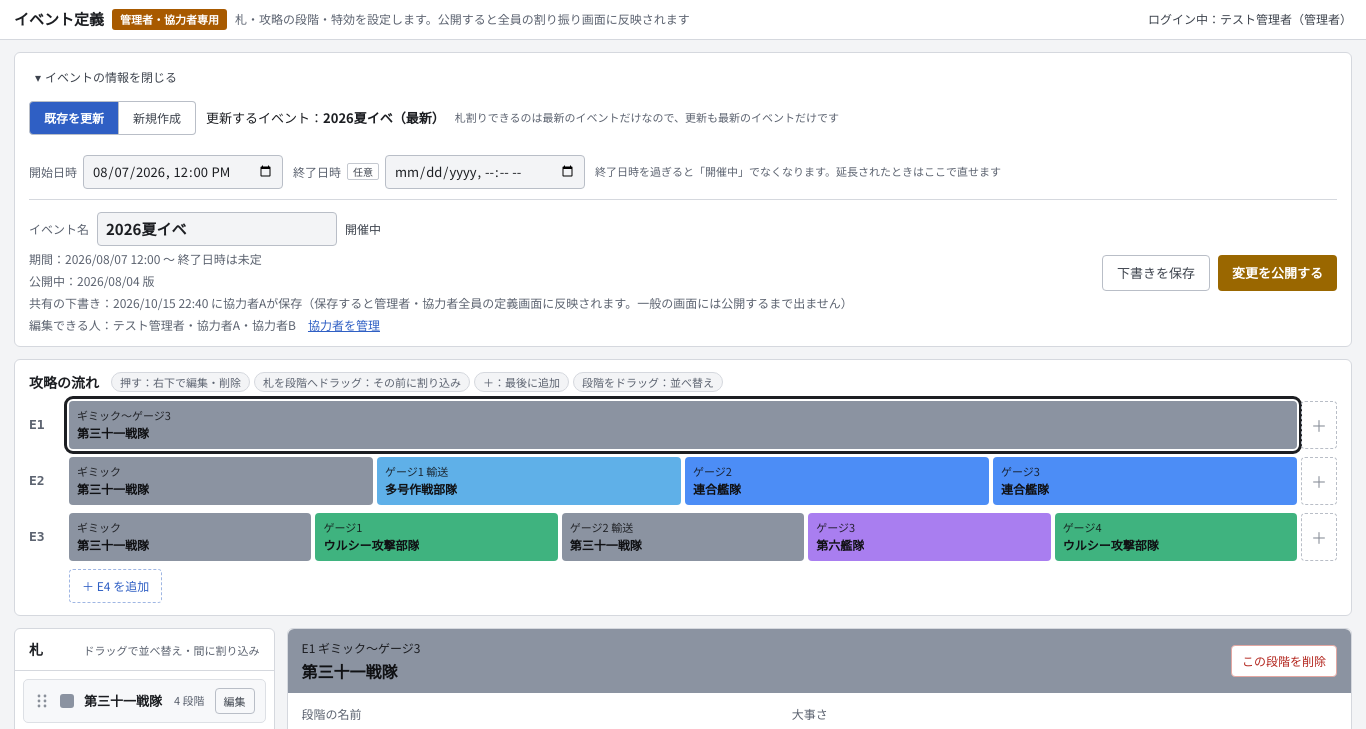
イベント定義の画面（PlanEditor）：公開の前の確認（UI／UX の指摘 中8） › 確認のウィンドウ › 「変更を公開する」を押すと、確認のウィンドウ（名前「公開の確認」）に「公開する」「やめる」を出し、この時点では下書きの保存も公開もしない
Expected: the element "攻略の流れ" is shown, x1=14 y1=358 x2=1352 y2=616
Step 1. Click the button "ゲージ3 連合艦隊" → (1020, 470), box x1=993 y1=456 x2=1297 y2=504
(page scrolled)
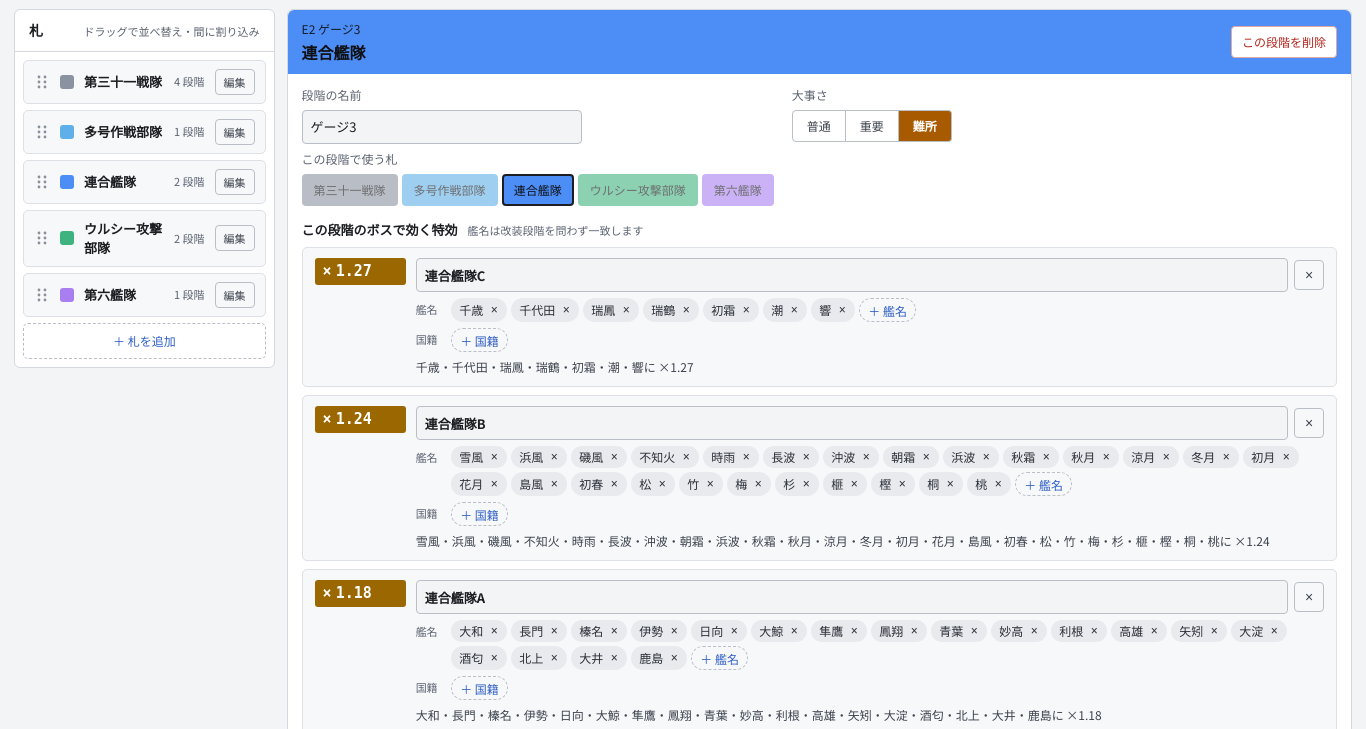
Step 2. Click the button "重要" → (872, 126), box x1=846 y1=110 x2=899 y2=142
(page scrolled)
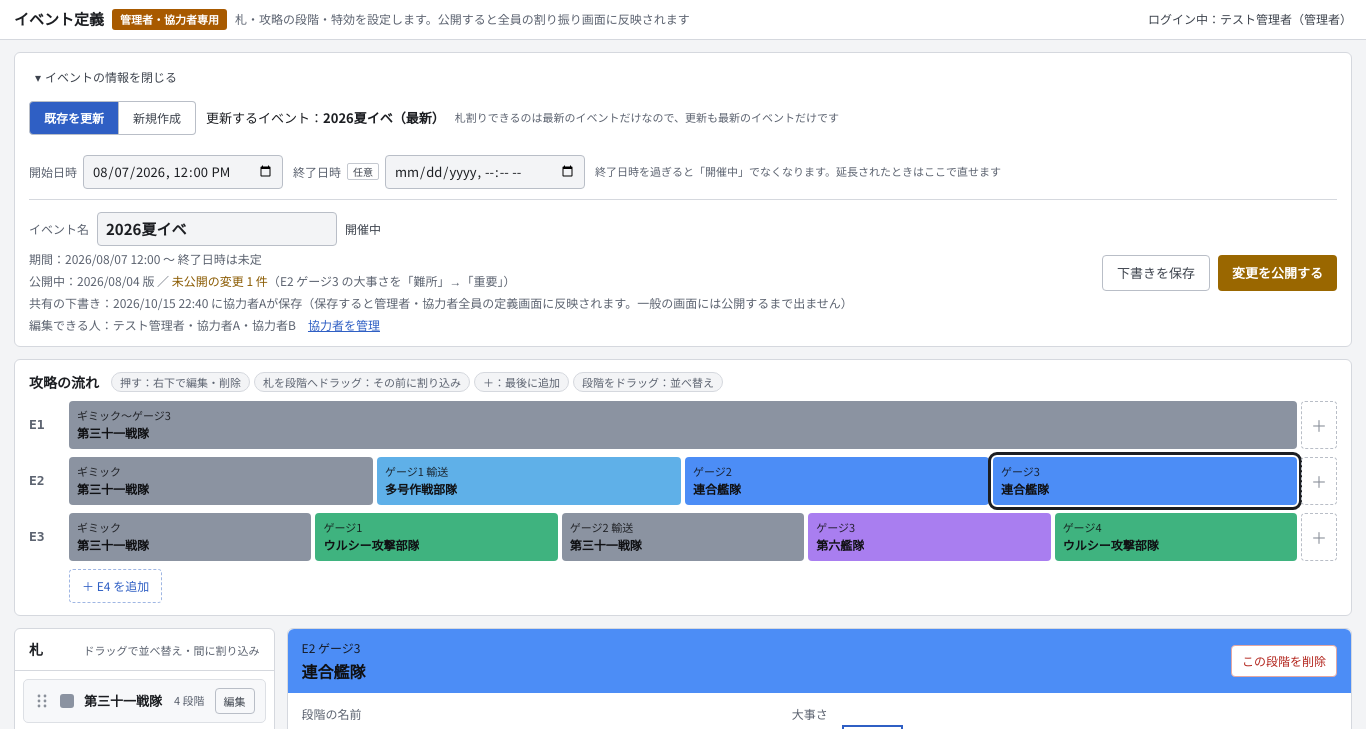
Step 3. Click the button "変更を公開する" → (1278, 272), box x1=1218 y1=254 x2=1337 y2=290
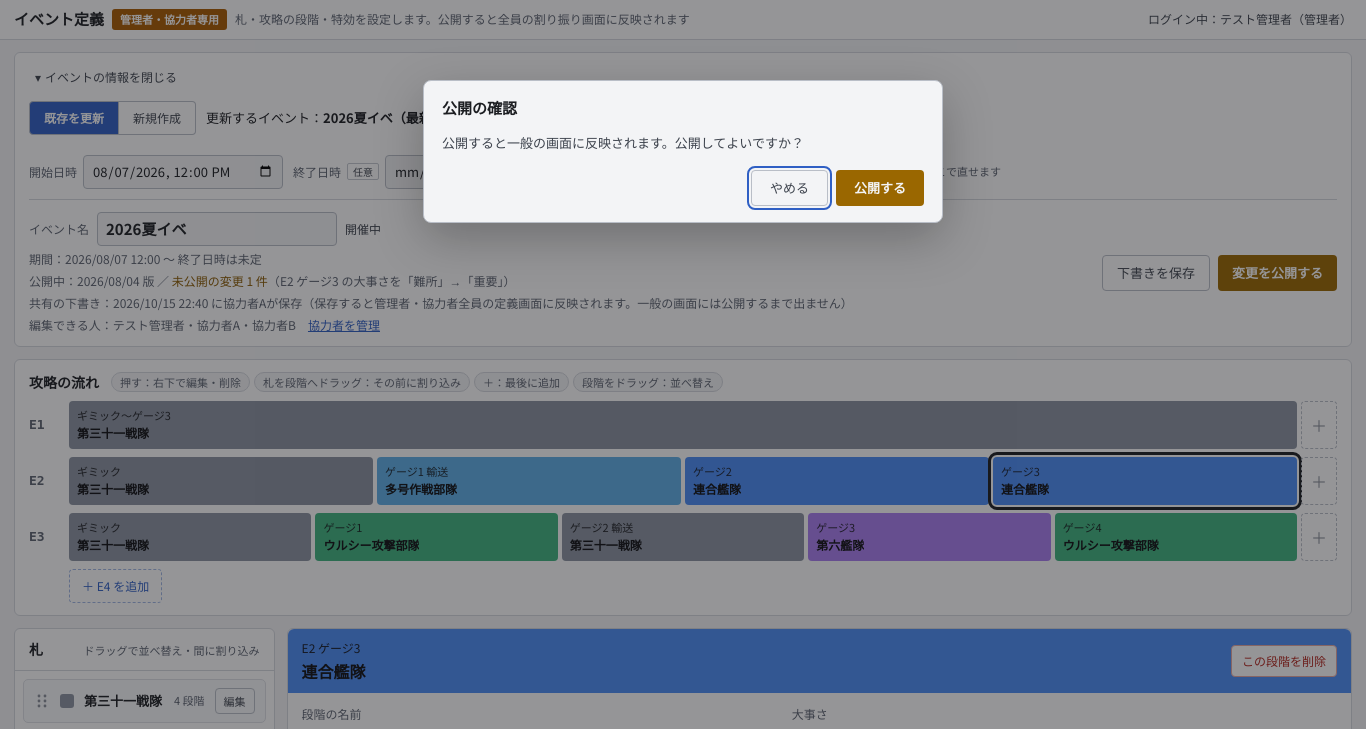
Result: the button "公開する" is shown at x1=836 y1=170 x2=924 y2=206
Result: the button "やめる" is shown at x1=751 y1=170 x2=828 y2=206
